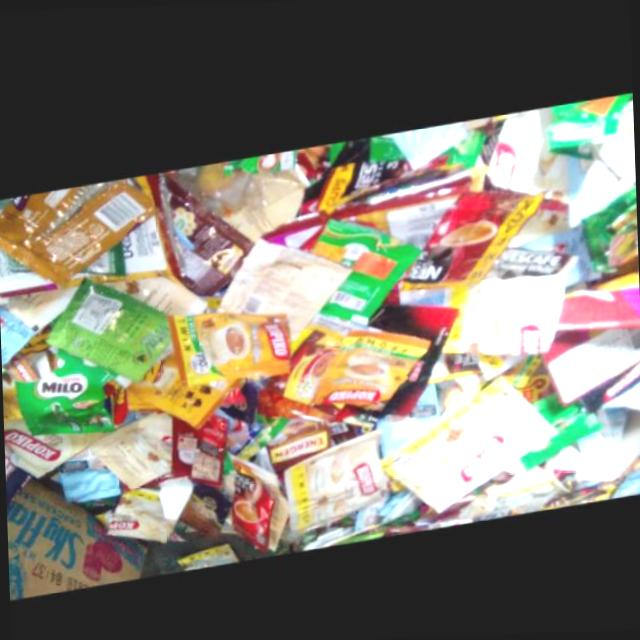goi_nhua_nho: (385, 374, 563, 509), (0, 170, 163, 274), (404, 188, 548, 285), (219, 230, 354, 332), (50, 267, 174, 373), (313, 215, 423, 321), (289, 422, 392, 529), (167, 168, 257, 287), (312, 325, 435, 405), (131, 343, 248, 422), (169, 304, 294, 377), (19, 351, 119, 424), (102, 464, 198, 534), (3, 407, 114, 466), (94, 403, 176, 479), (236, 451, 280, 544), (3, 418, 37, 509)
